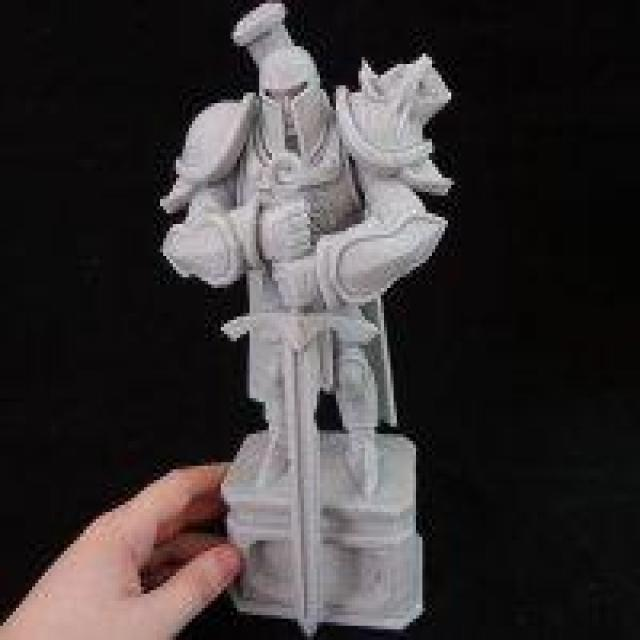Without deffect: (152, 0, 482, 634)
